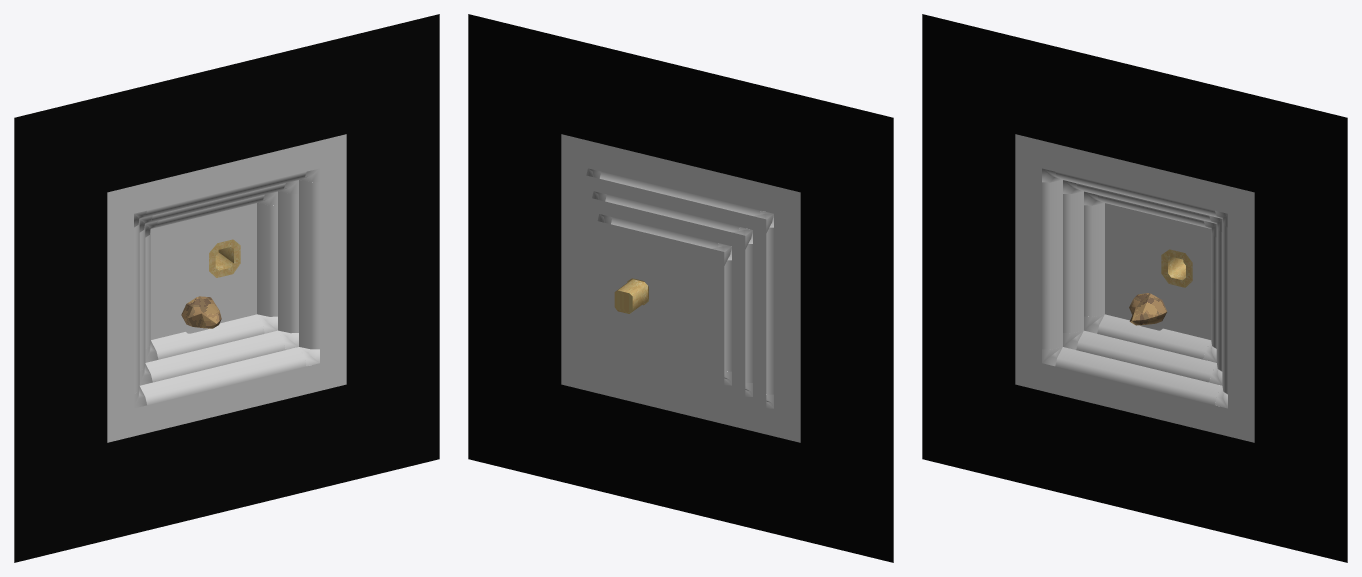
Rendered from Navel-Cave-West-3_01_00.obj.
The picture shows the model from 3 angles, left to right: view 1: azimuth 30°, elevation 25°; view 2: azimuth 150°, elevation 25°; view 3: azimuth 330°, elevation 25°; orthographic projection.
Visible parts, largest first — view 1: map; view 2: map; view 3: map.
Boxes of the visible parts, x1,y1,x2,y2 form: map: (14,14,439,562); map: (468,14,893,562); map: (922,14,1347,562).
Bounding box in the file's own units: 32 × 32 × 4.88.
